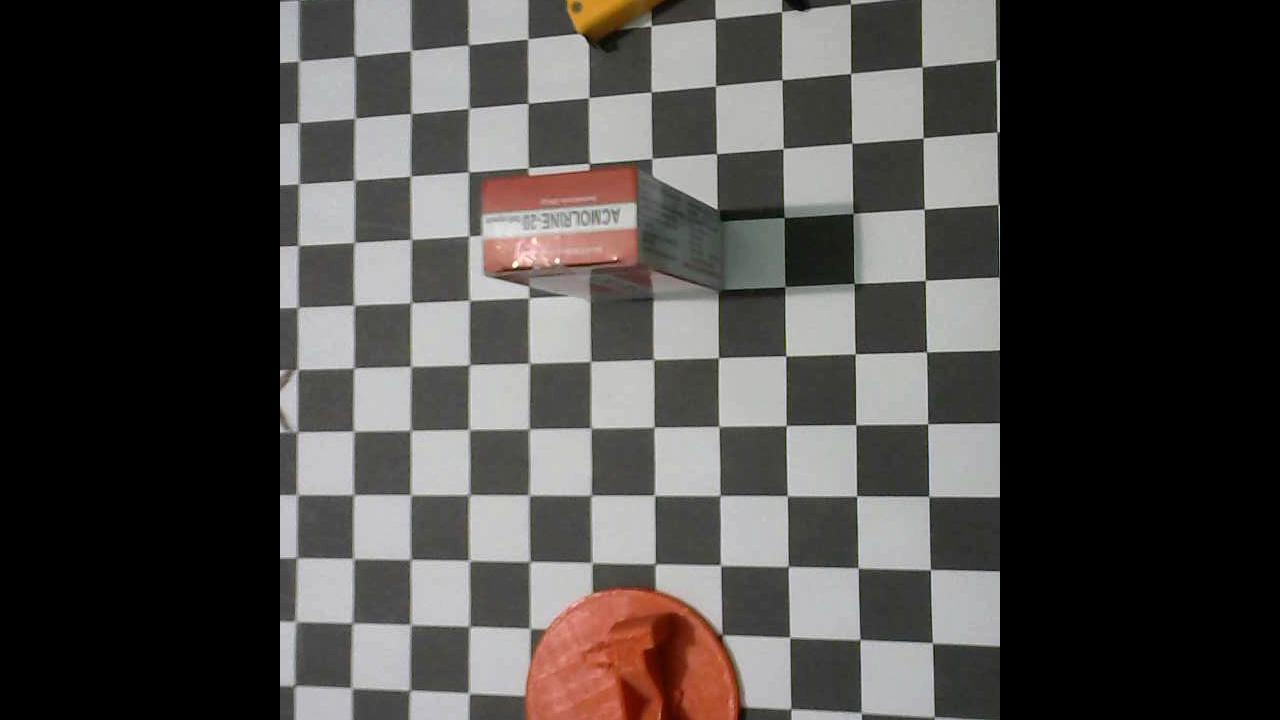blue: (545, 0, 703, 54)
green: (523, 586, 746, 719)
red: (479, 172, 729, 298)
